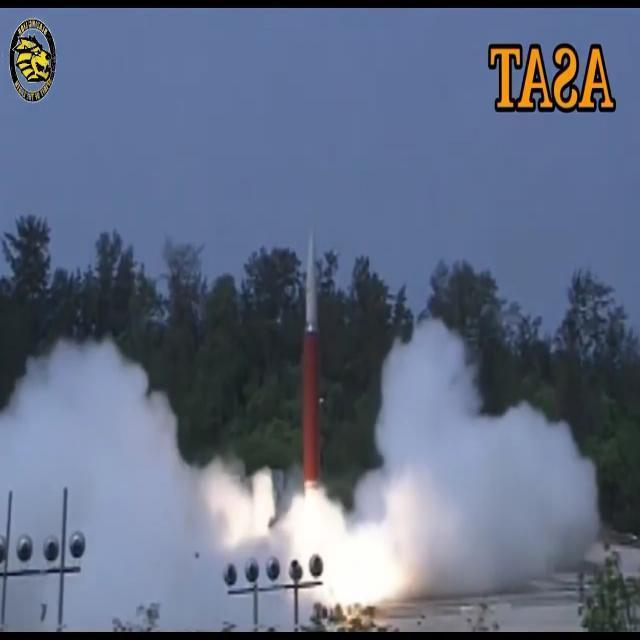missile: (296, 230, 322, 495)
